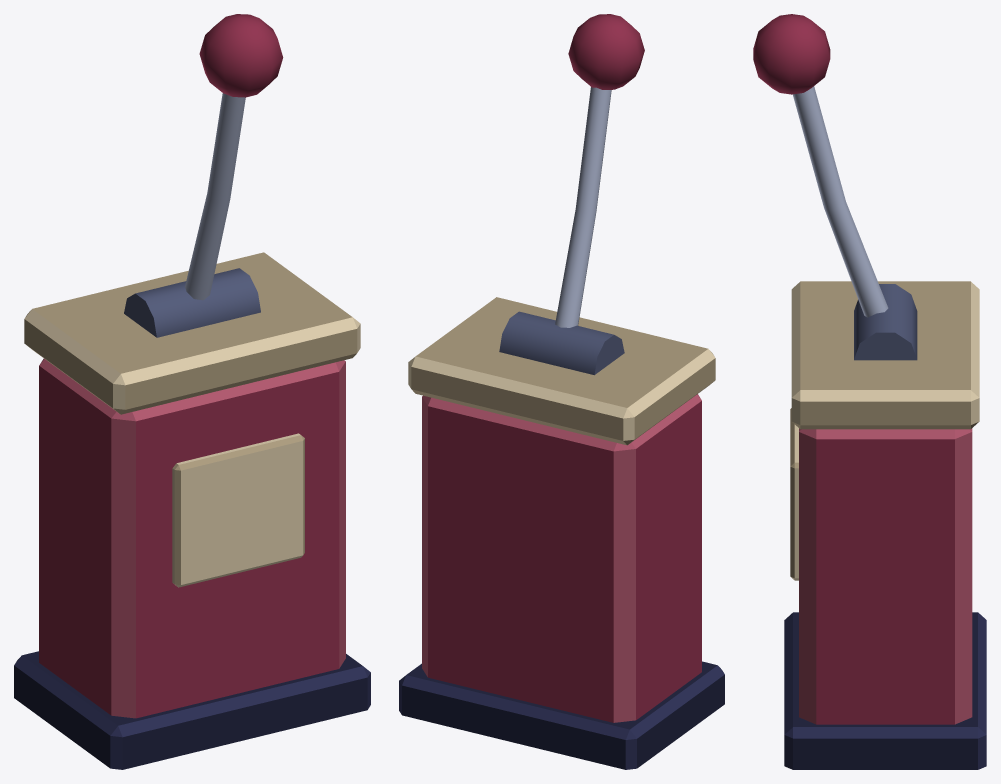
The model's file is Intro_Lever.fbx.
3 views of the same model, side by side, from view 1: azimuth 30°, elevation 25°; view 2: azimuth 150°, elevation 25°; view 3: azimuth 270°, elevation 25° (orthographic). The views are drawn at different scales.
Visible parts, largest first — view 1: Intro_Lever, Intro_Lever_Handle; view 2: Intro_Lever, Intro_Lever_Handle; view 3: Intro_Lever, Intro_Lever_Handle.
Boxes of the visible parts, x1,y1,x2,y2 form: Intro_Lever: (14, 252, 370, 769); Intro_Lever_Handle: (185, 14, 283, 300); Intro_Lever: (399, 297, 724, 769); Intro_Lever_Handle: (555, 14, 644, 327); Intro_Lever: (784, 281, 986, 769); Intro_Lever_Handle: (753, 14, 888, 317).
Bounding box in the file's own units: 2 × 5.28 × 1.62.
1 material, 1 textured.
